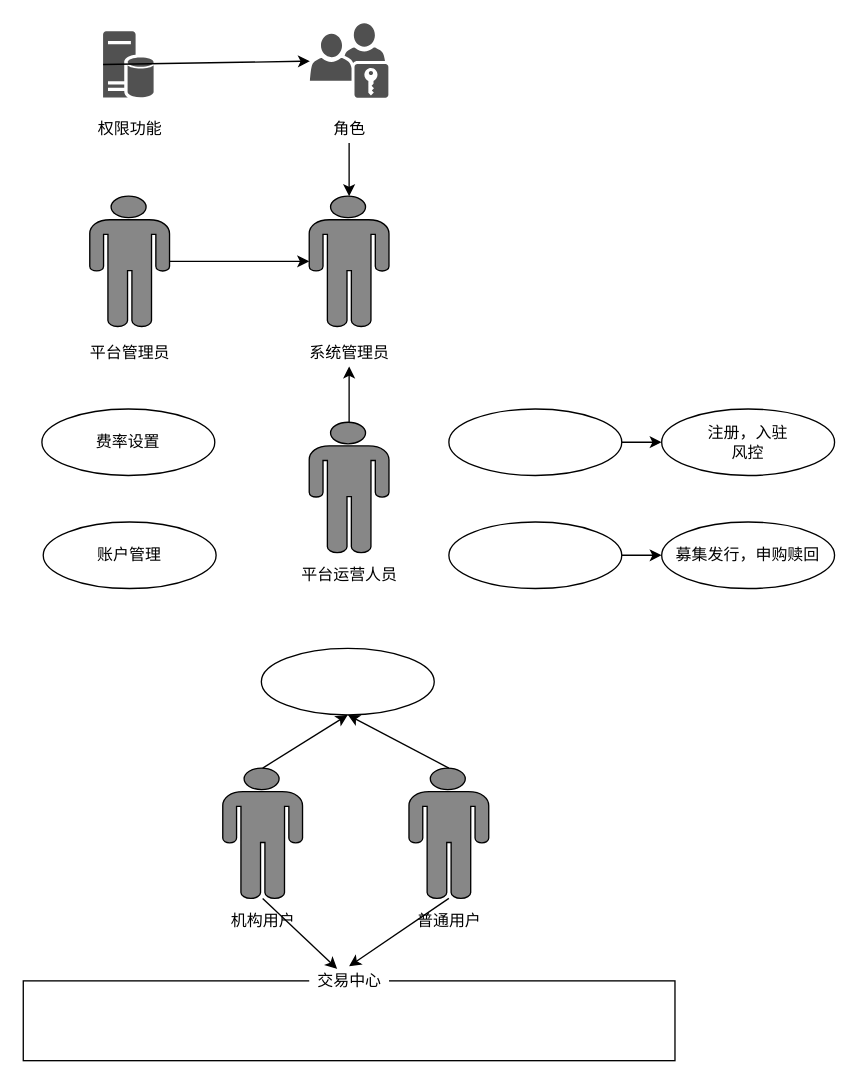
The diagram is 858 pixels wide and 1084 high, and some of its shapes have lost their labels. The box of each missing label's shape, as (x1, y1, x2, y2) in pixels:
审核: (448, 408, 622, 475)
现货交易、杠杆交易、合约交易、流动性、风控策略: (22, 980, 675, 1061)
用户管理: (260, 647, 434, 715)
通证管理: (448, 521, 622, 589)
